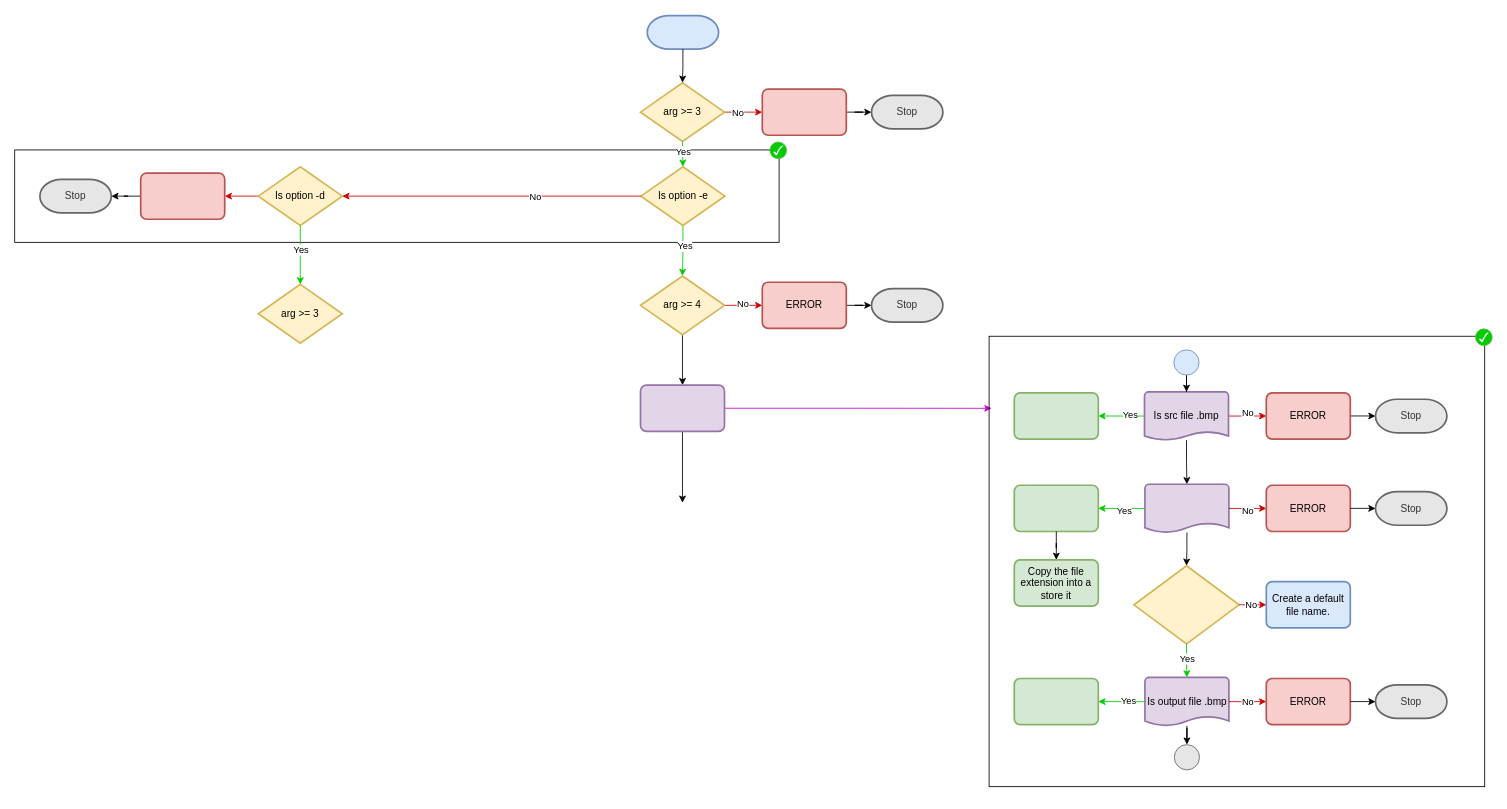
Some shapes in this 1507 by 809 pixel diagram are drawn without their labels. The centre of each missing label's shape, as x and y in pixels:
ERROR Arg missing: point 804,112
INVALID OPTION: point 182,196
Is o/p file name provided: point 1186,604
Is secret file .txt/.sh/.c: point 1186,508
read and validate files: point 682,408
Start: point 682,32
Store the address of the o/p file name.: point 1056,701
Store the address of the secret file name.: point 1056,508
Store the address of the src file name.: point 1056,415
